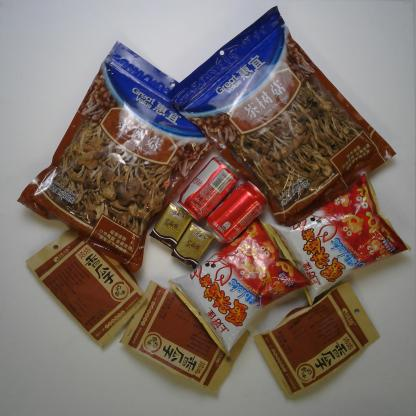Dried Food: (165, 2, 399, 228), (11, 38, 225, 282), (25, 215, 150, 353), (118, 278, 254, 400), (253, 281, 384, 400)
Drink: (174, 151, 244, 225), (201, 178, 271, 249)
Puffed Food: (164, 216, 313, 359), (267, 170, 414, 310)
Tissue: (168, 220, 216, 274), (150, 197, 194, 252)
